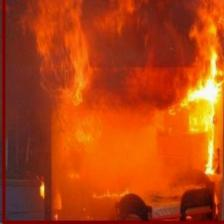fire: (2, 0, 224, 223)
